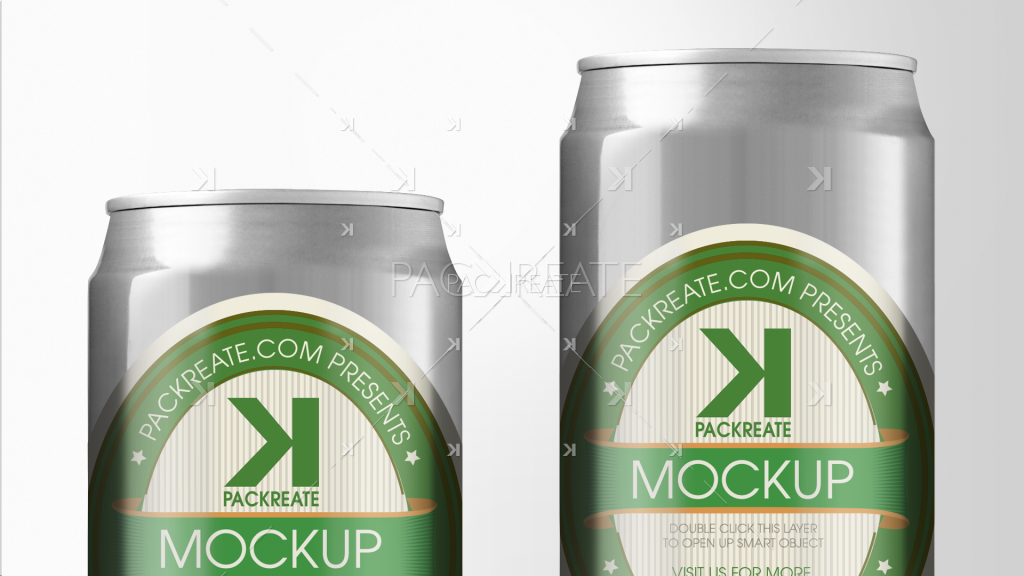beer can: (559, 55, 937, 576), (89, 195, 465, 576)
